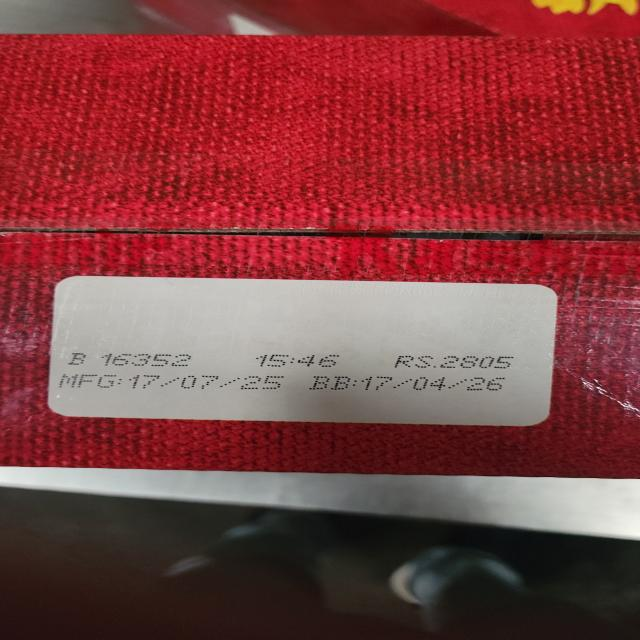BB: (311, 376, 509, 392)
Batch: (65, 352, 196, 367)
MFG: (58, 374, 291, 390)
RS: (394, 355, 517, 369)
TimeStamp: (257, 354, 343, 367)
